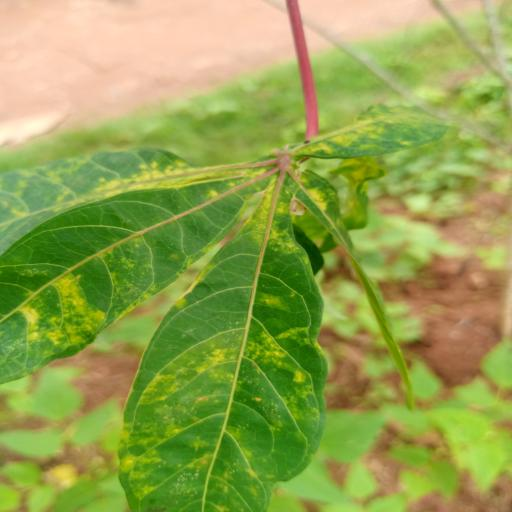Cassava_Mosaic: (5, 109, 469, 512)
